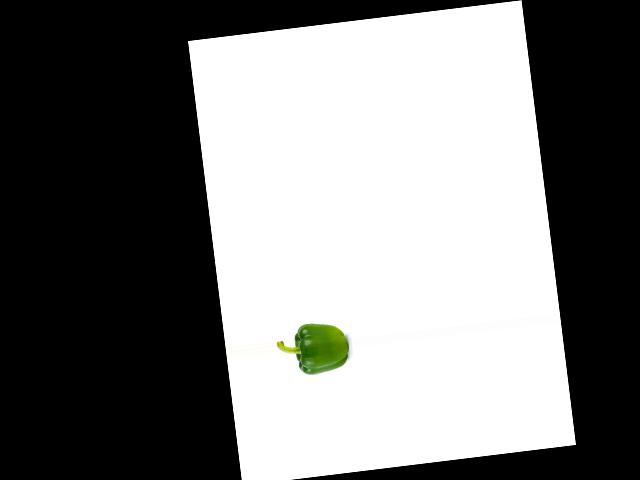bell_pepper: (276, 318, 352, 386)
